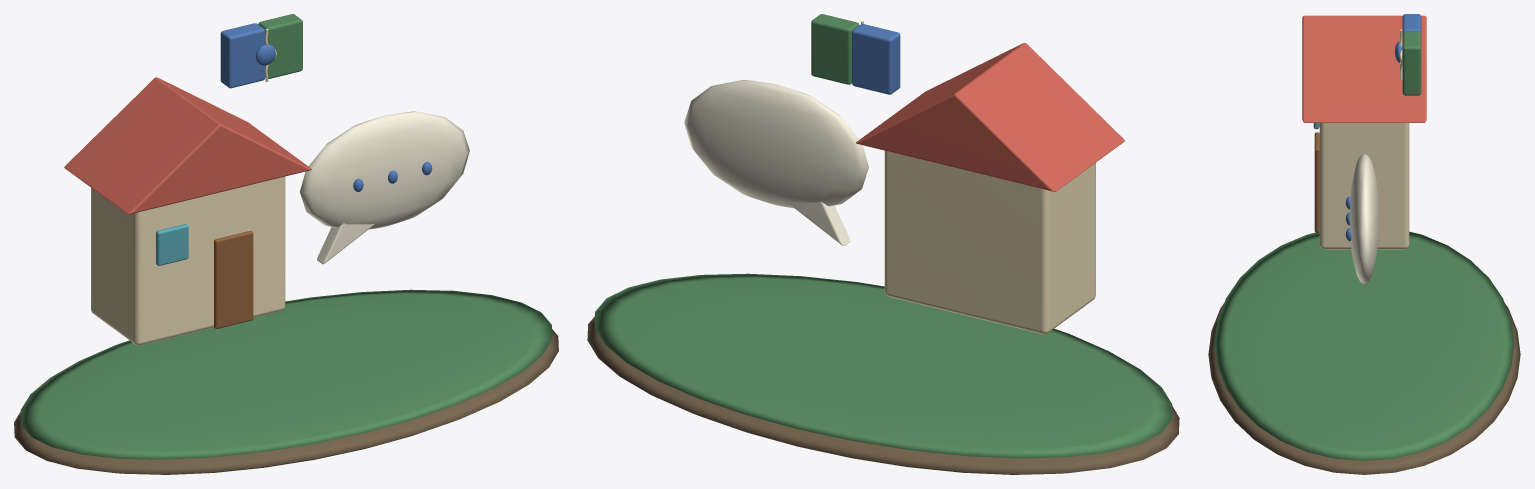
File: complete-third-building-discussion.glb
3 views of the same model, side by side, from view 1: azimuth 30°, elevation 25°; view 2: azimuth 150°, elevation 25°; view 3: azimuth 270°, elevation 25° (orthographic). The views are drawn at different scales.
Visible parts, largest first — view 1: complete-third-building-discussion_surface_01, complete-third-building-discussion_surface_02, complete-third-building-discussion_surface_03, complete-third-building-discussion_surface_06, complete-third-building-discussion_surface_00, complete-third-building-discussion_surface_04, complete-third-building-discussion_surface_07, complete-third-building-discussion_surface_05; view 2: complete-third-building-discussion_surface_01, complete-third-building-discussion_surface_02, complete-third-building-discussion_surface_03, complete-third-building-discussion_surface_06, complete-third-building-discussion_surface_00, complete-third-building-discussion_surface_07; view 3: complete-third-building-discussion_surface_01, complete-third-building-discussion_surface_03, complete-third-building-discussion_surface_02, complete-third-building-discussion_surface_00, complete-third-building-discussion_surface_06, complete-third-building-discussion_surface_07, complete-third-building-discussion_surface_04.
Boxes of the visible parts, x1=… form: complete-third-building-discussion_surface_01: x1=20, y1=14, x2=552, y2=459; complete-third-building-discussion_surface_02: x1=91, y1=29, x2=285, y2=345; complete-third-building-discussion_surface_03: x1=64, y1=77, x2=311, y2=214; complete-third-building-discussion_surface_06: x1=300, y1=111, x2=469, y2=264; complete-third-building-discussion_surface_00: x1=14, y1=329, x2=558, y2=474; complete-third-building-discussion_surface_04: x1=214, y1=231, x2=253, y2=328; complete-third-building-discussion_surface_07: x1=220, y1=23, x2=432, y2=191; complete-third-building-discussion_surface_05: x1=156, y1=224, x2=188, y2=265; complete-third-building-discussion_surface_01: x1=594, y1=14, x2=1172, y2=458; complete-third-building-discussion_surface_02: x1=861, y1=21, x2=1095, y2=334; complete-third-building-discussion_surface_03: x1=856, y1=43, x2=1124, y2=191; complete-third-building-discussion_surface_06: x1=684, y1=80, x2=868, y2=245; complete-third-building-discussion_surface_00: x1=587, y1=317, x2=1179, y2=474; complete-third-building-discussion_surface_07: x1=852, y1=24, x2=900, y2=94; complete-third-building-discussion_surface_01: x1=1214, y1=31, x2=1514, y2=460; complete-third-building-discussion_surface_03: x1=1302, y1=15, x2=1426, y2=122; complete-third-building-discussion_surface_02: x1=1319, y1=29, x2=1409, y2=249; complete-third-building-discussion_surface_00: x1=1208, y1=303, x2=1520, y2=474; complete-third-building-discussion_surface_06: x1=1349, y1=154, x2=1379, y2=283; complete-third-building-discussion_surface_07: x1=1345, y1=14, x2=1421, y2=241; complete-third-building-discussion_surface_04: x1=1314, y1=132, x2=1319, y2=232.
Size of the model in its own units: 4.56 by 3 by 2.5.
